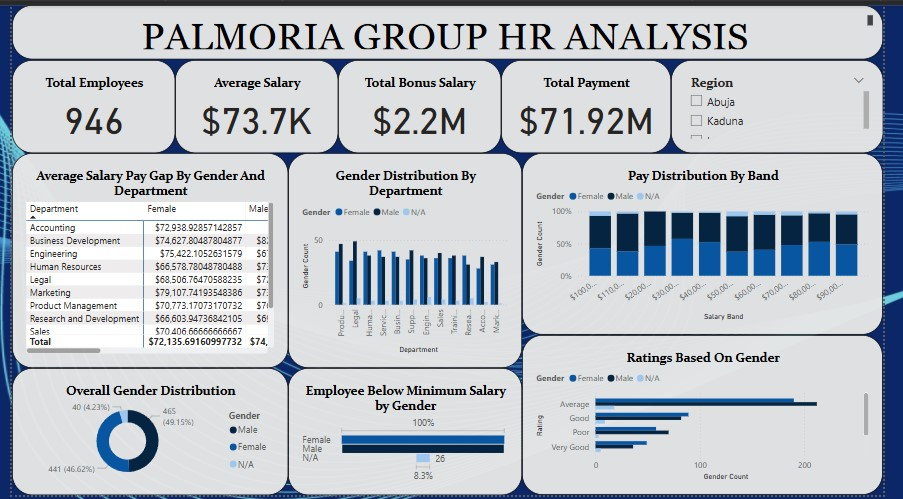

This screenshot's page, from the dashboard's own definition file:
{"tool":"powerbi","page":{"name":"Page 1","canvas":[1280,720],"ordinal":0},"visuals":[{"type":"textbox","box":[0,0,1280,80.4],"z":0},{"type":"clusteredColumnChart","title":"Gender Distribution By Department","fields":{"Category":["Palmoria Group Employee Data.Department"],"Series":["Palmoria Group Employee Data.Gender"],"Y":["Palmoria Group Employee Data.Gender Count"]},"box":[405.6,217.5,343.8,315.9],"z":1000},{"type":"card","title":"Average Salary","fields":{"Values":["Palmoria Group Employee Data.Average Salary"]},"box":[239.5,80.8,239.5,136.7],"z":2000},{"type":"card","title":"Total Payment","fields":{"Values":["Sum(Palmoria Group Employee Data.Total Payment)"]},"box":[718.5,80.8,249.8,136.7],"z":3000},{"type":"funnel","fields":{"Category":["Palmoria Group Employee Data.Gender"],"Y":["Palmoria Group Employee Data.Employee Below Minimum Salary"]},"box":[405.6,533.4,343.8,186.6],"z":4000},{"type":"pivotTable","title":"Average Salary Pay Gap By Gender And Department","fields":{"Rows":["Palmoria Group Employee Data.Department"],"Values":["Palmoria Group Employee Data.Average Salary"],"Columns":["Palmoria Group Employee Data.Gender"]},"box":[0,217.5,405.6,315.9],"z":5000},{"type":"hundredPercentStackedColumnChart","title":"Pay Distribution By Band","fields":{"Category":["Palmoria Group Employee Data.Salary Band"],"Series":["Palmoria Group Employee Data.Gender"],"Y":["Palmoria Group Employee Data.Gender Count"]},"box":[749.4,217.5,530.4,267.4],"z":6000},{"type":"card","title":"Total Bonus Salary","fields":{"Values":["Sum(Palmoria Group Employee Data.Annual Bonus)"]},"box":[479,80.8,239.5,136.7],"z":7000},{"type":"donutChart","title":"Overall Gender Distribution","fields":{"Category":["Palmoria Group Employee Data.Gender"],"Y":["Palmoria Group Employee Data.Gender Count"]},"box":[0,533.4,405.6,186.6],"z":8000},{"type":"clusteredBarChart","title":"Ratings Based On Gender","fields":{"Category":["Palmoria Group Employee Data.Rating"],"Y":["Palmoria Group Employee Data.Gender Count"],"Series":["Palmoria Group Employee Data.Gender"]},"box":[749.4,484.9,530.4,235.1],"z":9000},{"type":"slicer","fields":{"Values":["Palmoria Group Employee Data.Location"]},"box":[968.3,80.8,311.5,136.7],"z":10000},{"type":"card","title":"Total Employees","fields":{"Values":["Palmoria Group Employee Data.Total Employee"]},"box":[0,80.8,240,136.7],"z":11001}]}

Visuals, with their boxes in screenshot pixels (x1, y1, x2, y2), scaled from the page's 1280x720 canvas onto the 903x499 screenshot:
textbox: x1=0, y1=0, x2=902, y2=56
"Gender Distribution By Department" clusteredColumnChart: x1=286, y1=151, x2=529, y2=370
"Average Salary" card: x1=169, y1=56, x2=338, y2=151
"Total Payment" card: x1=507, y1=56, x2=683, y2=151
funnel - Palmoria Group Employee Data.Gender x Palmoria Group Employee Data.Employee Below Minimum Salary: x1=286, y1=370, x2=529, y2=498
"Average Salary Pay Gap By Gender And Department" pivotTable: x1=0, y1=151, x2=286, y2=370
"Pay Distribution By Band" hundredPercentStackedColumnChart: x1=529, y1=151, x2=902, y2=336
"Total Bonus Salary" card: x1=338, y1=56, x2=507, y2=151
"Overall Gender Distribution" donutChart: x1=0, y1=370, x2=286, y2=498
"Ratings Based On Gender" clusteredBarChart: x1=529, y1=336, x2=902, y2=498
slicer - Palmoria Group Employee Data.Location: x1=683, y1=56, x2=902, y2=151
"Total Employees" card: x1=0, y1=56, x2=169, y2=151
